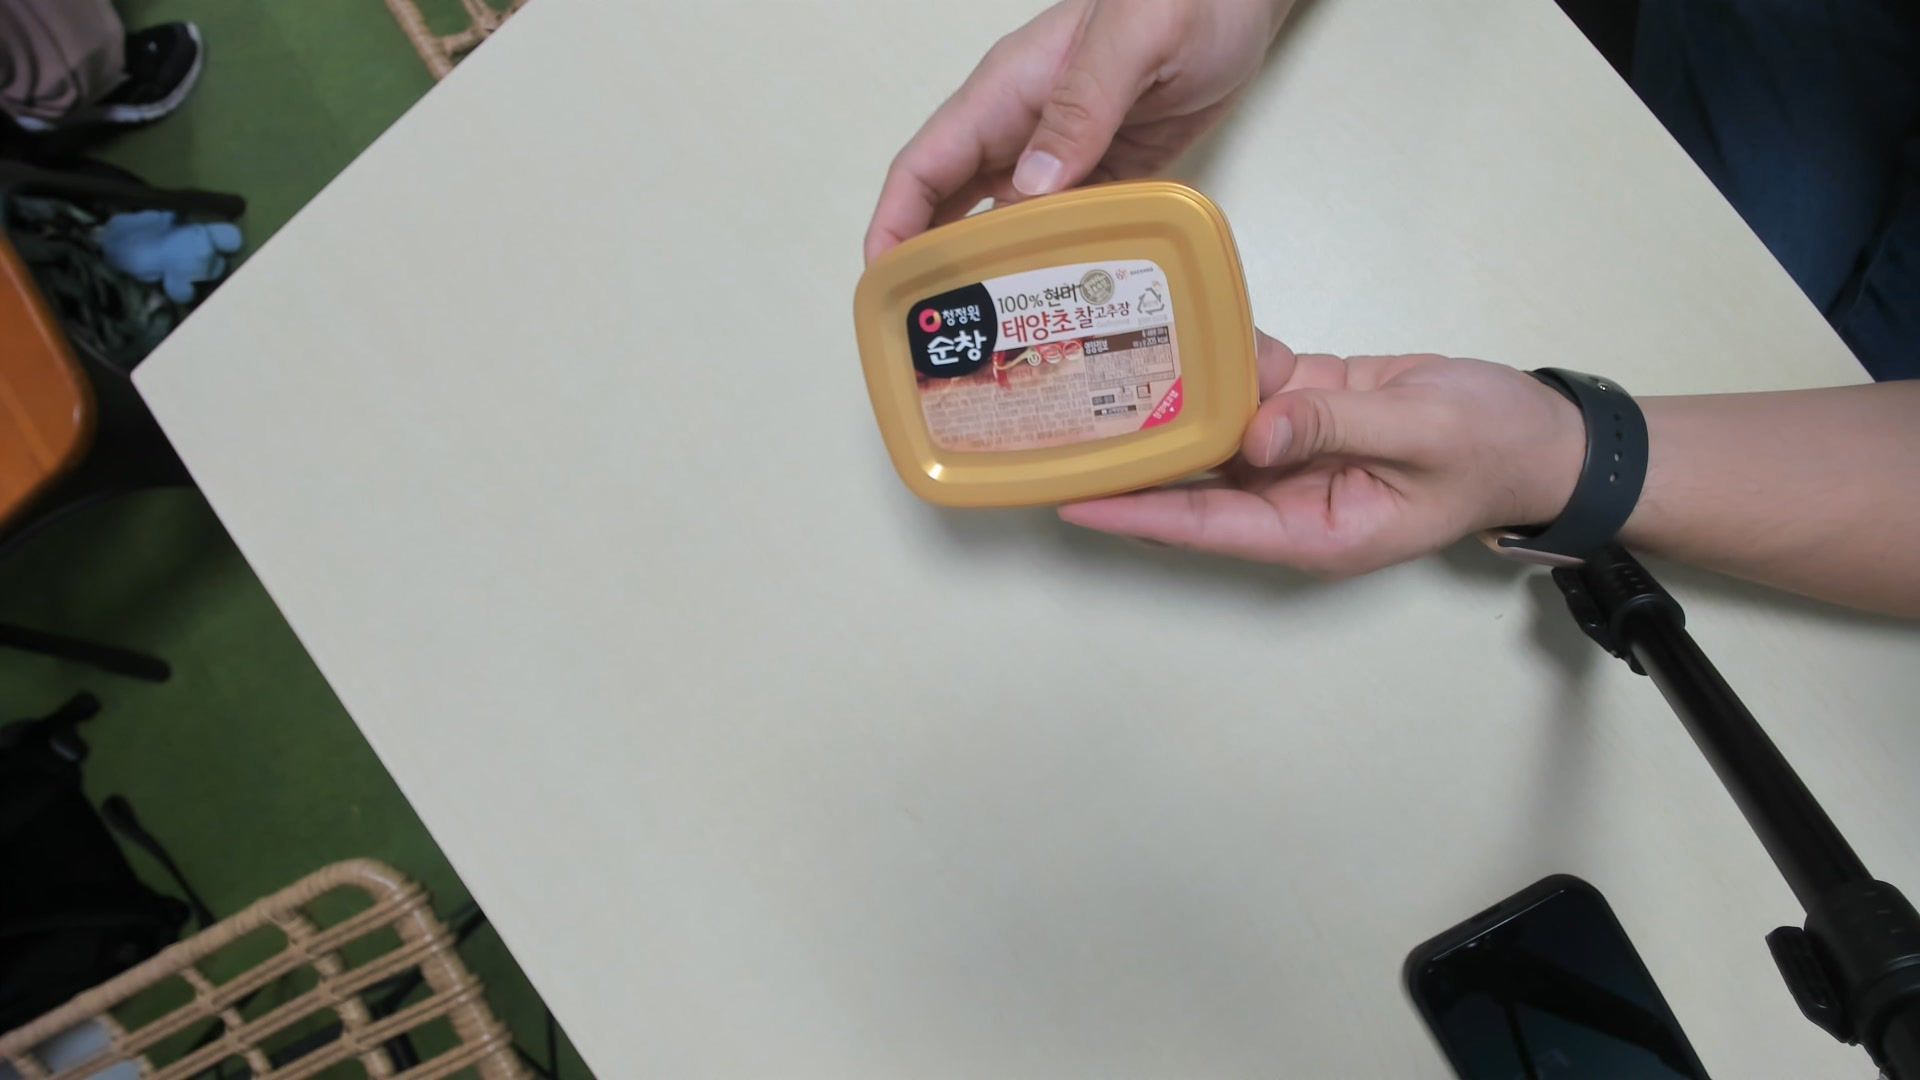OtherSauceDressing_200-299g_NonHalal_NonHealthy: (847, 179, 1261, 509)
